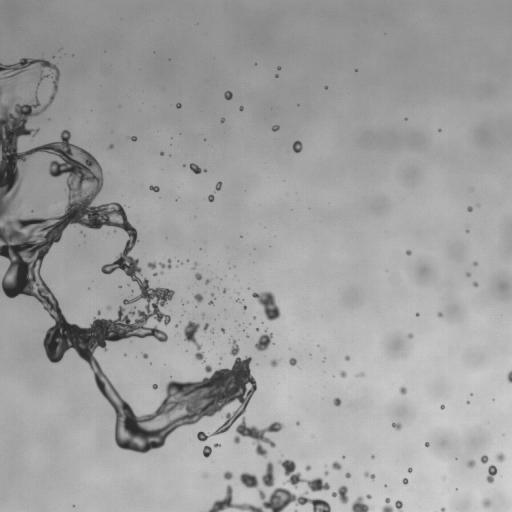droplet: (255, 332, 273, 351), (332, 485, 348, 503), (351, 496, 370, 511), (382, 498, 403, 511), (486, 465, 497, 483), (292, 141, 302, 153), (194, 293, 203, 303), (203, 446, 211, 457), (332, 461, 341, 470), (223, 471, 233, 479), (496, 453, 505, 461), (467, 459, 475, 468), (482, 498, 490, 507), (224, 91, 232, 99), (333, 398, 341, 406), (480, 455, 488, 463), (392, 423, 401, 430), (149, 185, 159, 191), (215, 182, 222, 190), (289, 358, 297, 365), (399, 387, 407, 394), (195, 273, 202, 280), (270, 359, 277, 366), (203, 323, 209, 331), (272, 125, 279, 131), (208, 194, 214, 201), (340, 370, 346, 377), (305, 465, 311, 471), (402, 478, 408, 484), (130, 136, 136, 141), (142, 353, 148, 358), (176, 103, 181, 108), (467, 206, 472, 211), (406, 250, 411, 255), (473, 282, 478, 287), (437, 312, 442, 317), (408, 333, 413, 338), (345, 355, 350, 360), (152, 384, 157, 389), (345, 473, 350, 478), (214, 443, 220, 447), (205, 279, 210, 283), (208, 300, 213, 304), (210, 328, 214, 333), (408, 467, 412, 472), (366, 494, 371, 498), (357, 373, 363, 376), (239, 106, 243, 110), (220, 118, 224, 122), (109, 144, 113, 148), (473, 261, 477, 265), (466, 272, 470, 276), (221, 328, 225, 332), (440, 405, 444, 409), (425, 442, 429, 446), (324, 471, 328, 475), (441, 507, 445, 511), (223, 289, 226, 293), (277, 66, 280, 69), (160, 152, 163, 155), (466, 229, 469, 232), (153, 273, 156, 276), (211, 294, 214, 297), (107, 306, 110, 309), (97, 311, 100, 314), (466, 401, 469, 404), (416, 313, 419, 315), (296, 422, 299, 424), (371, 455, 374, 457), (204, 474, 206, 477)
ligament: (0, 62, 282, 457), (207, 472, 330, 511), (279, 459, 329, 492), (184, 320, 205, 362), (252, 291, 280, 321), (261, 462, 274, 487), (147, 259, 171, 269), (189, 163, 206, 173), (37, 75, 48, 85), (236, 299, 246, 309), (364, 472, 375, 479), (507, 370, 511, 383), (192, 263, 197, 268), (294, 510, 297, 511)
